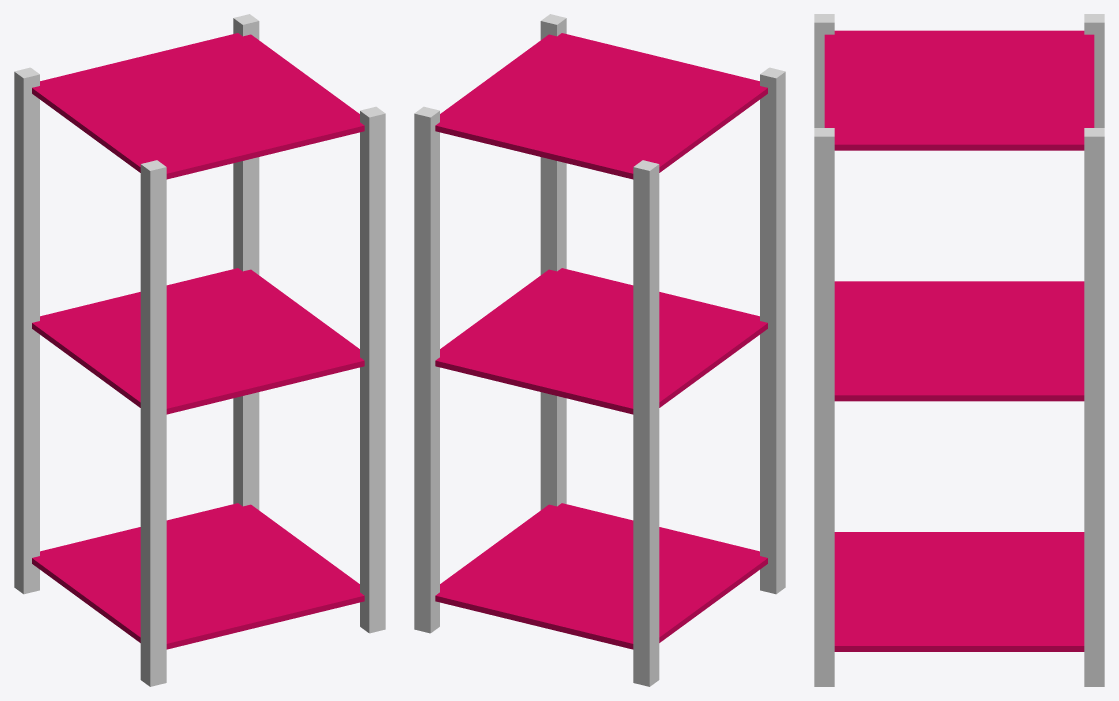
The model's file is BathroomShelf.fbx.
3 views of the same model, side by side, from view 1: azimuth 30°, elevation 25°; view 2: azimuth 150°, elevation 25°; view 3: azimuth 270°, elevation 25° (orthographic). The views are drawn at different scales.
Parts seen in each view (by area): view 1: Cube.001; view 2: Cube.001; view 3: Cube.001.
Boxes of the visible parts, x1,y1,x2,y2 form: Cube.001: [14, 14, 385, 686]; Cube.001: [414, 14, 785, 686]; Cube.001: [814, 14, 1104, 686].
Size of the model in its own units: 43 by 90 by 43.
